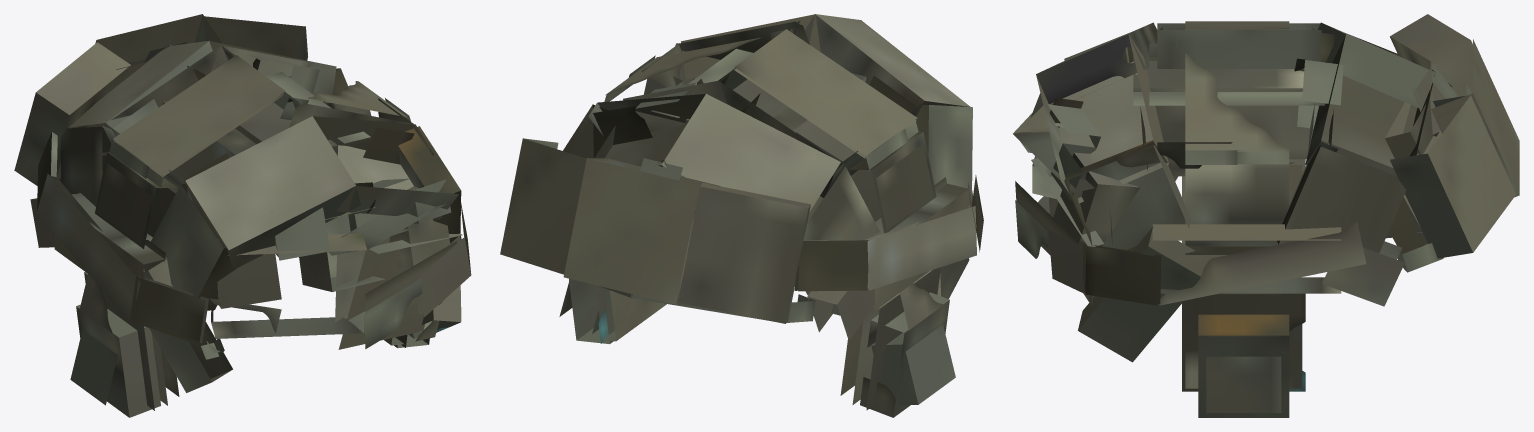
Rendered from infantry_h.obj.
3 renders of one model, left to right at view 1: azimuth 30°, elevation 25°; view 2: azimuth 150°, elevation 25°; view 3: azimuth 270°, elevation 25°, orthographic. The views are drawn at different scales.
Parts seen in each view (by area): view 1: infantry_h; view 2: infantry_h; view 3: infantry_h.
Boxes of the visible parts, left/top/right/bottom form: infantry_h: left=14, top=14, right=471, bottom=417; infantry_h: left=500, top=14, right=983, bottom=417; infantry_h: left=1013, top=14, right=1519, bottom=417.
Bounding box in the file's own units: 0.7971 × 0.6618 × 0.9744.
